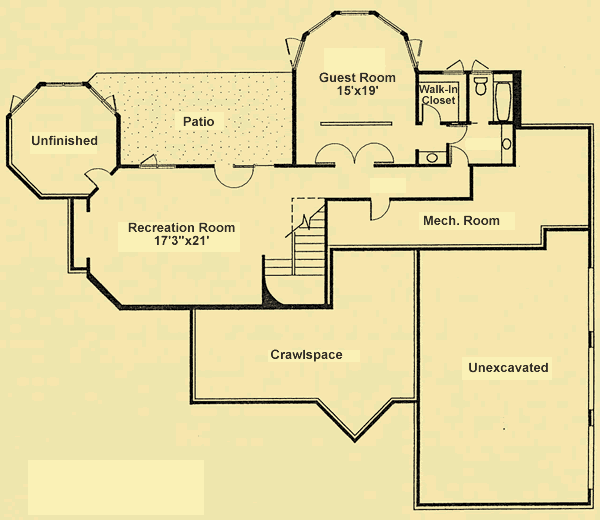door: (312, 141, 395, 169), (210, 163, 255, 190), (82, 166, 111, 189), (283, 35, 303, 67), (404, 36, 423, 68), (369, 198, 392, 222), (443, 123, 470, 143), (421, 103, 442, 127), (448, 146, 468, 168), (5, 94, 25, 115), (101, 94, 119, 116), (136, 152, 159, 168)
large_sink: (470, 75, 489, 98)
small_sink: (420, 148, 447, 165), (501, 124, 512, 161)
stairs: (259, 203, 327, 309)
tub: (491, 81, 513, 122)
